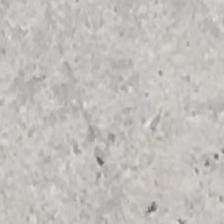Non_Crack: (52, 16, 193, 208)
